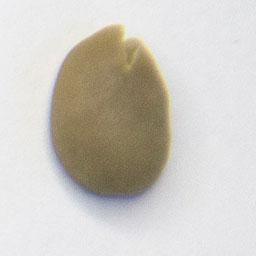premium: (47, 22, 174, 203)
